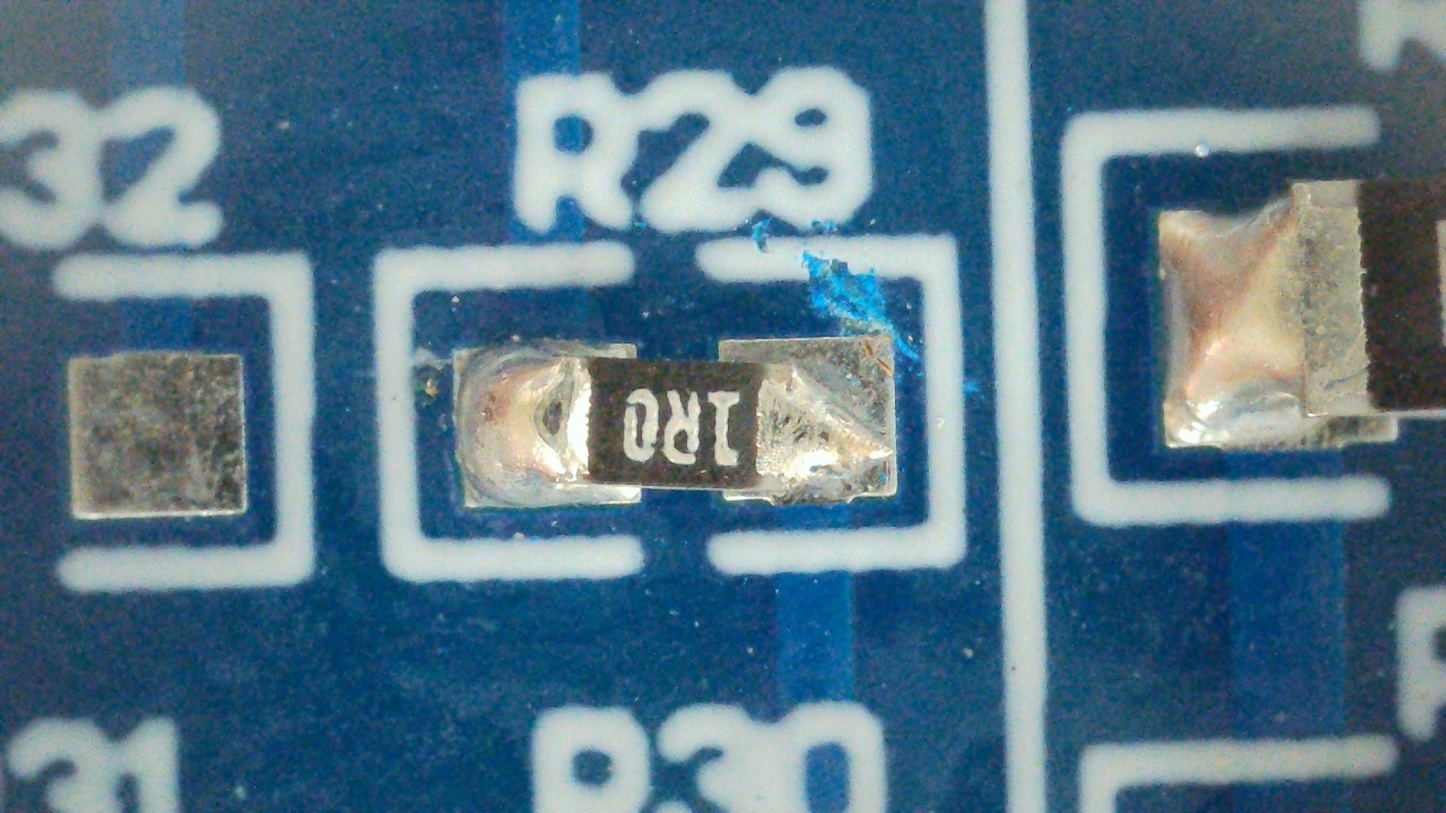NG: (453, 337, 896, 508)
